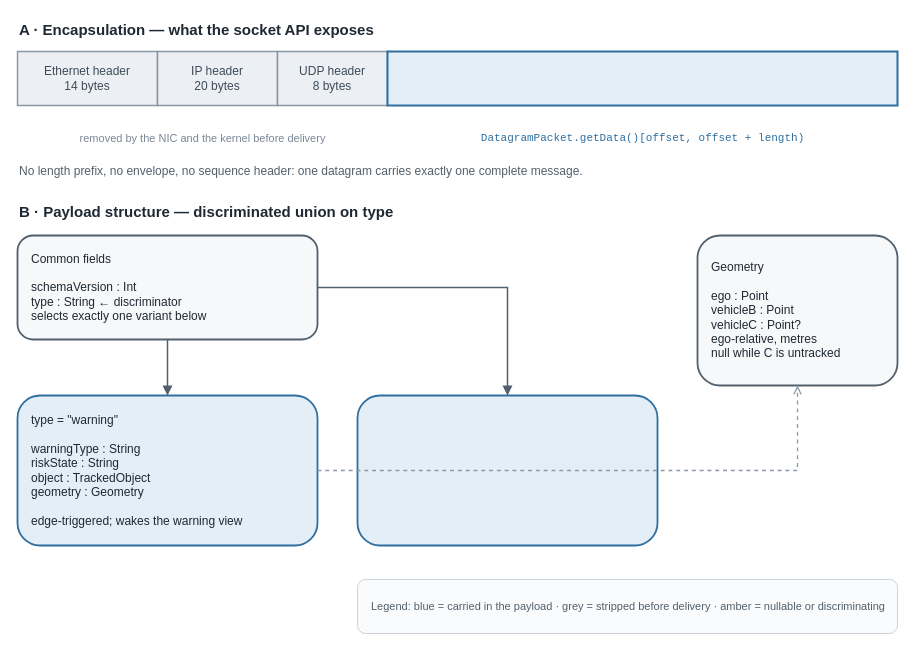
Image size: 916x651. Some labels were removed from this diagram. Here are the shapes that lost their labels. From the top down, the box of each, then its label:
(386, 50, 898, 106): Payload — one UTF-8 JSON object { "schemaVersion": 1, "type": "warning", … }
(356, 394, 658, 546): type = "state" seq : Int vehicles : Array periodic; last value wins
